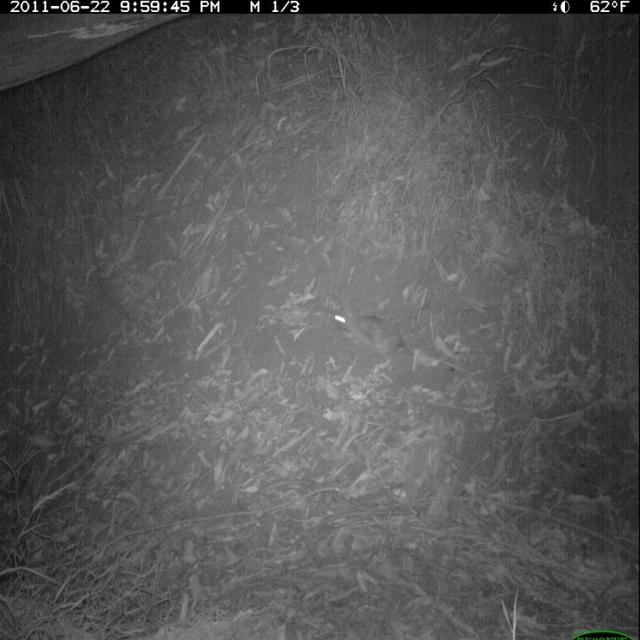rabbit: (313, 288, 411, 376)
